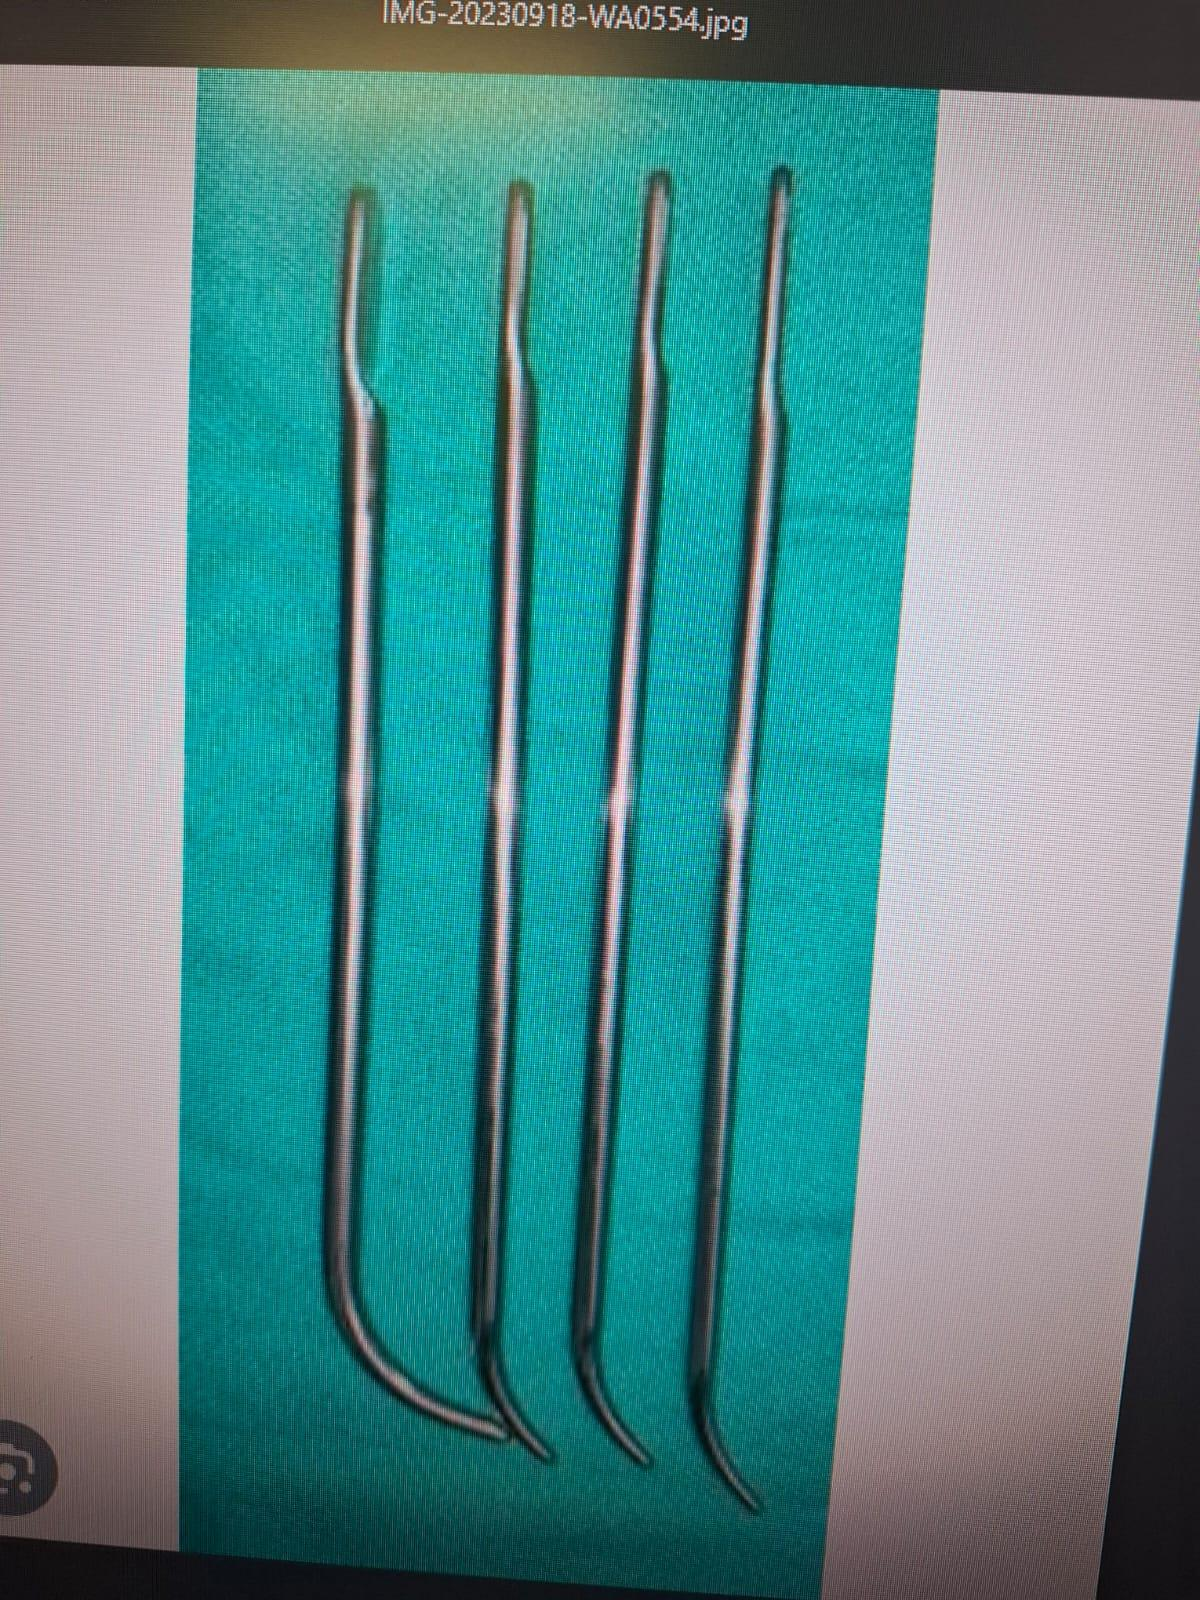Urethral Dilators: (268, 185, 510, 1460), (528, 165, 730, 1488), (400, 163, 590, 1485), (652, 127, 807, 1525)
